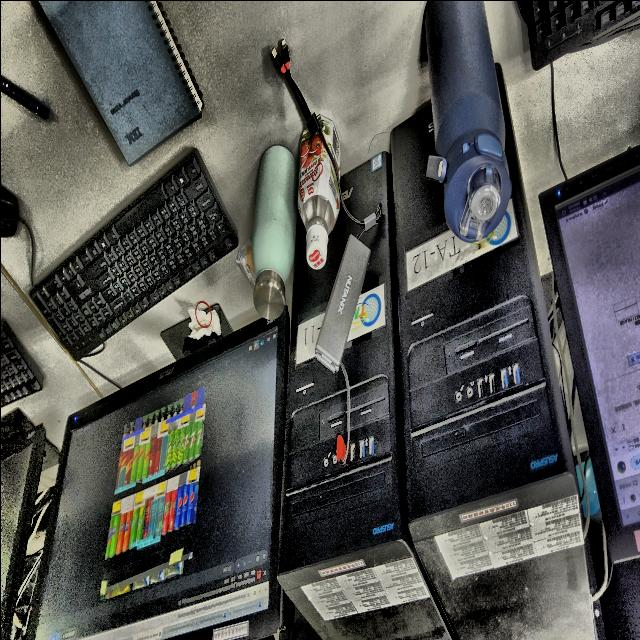HUB: (271, 39, 381, 462)
Keyboard: (29, 148, 238, 359), (525, 0, 640, 69), (0, 325, 43, 405)
Screen: (27, 308, 287, 640), (538, 145, 640, 561)
